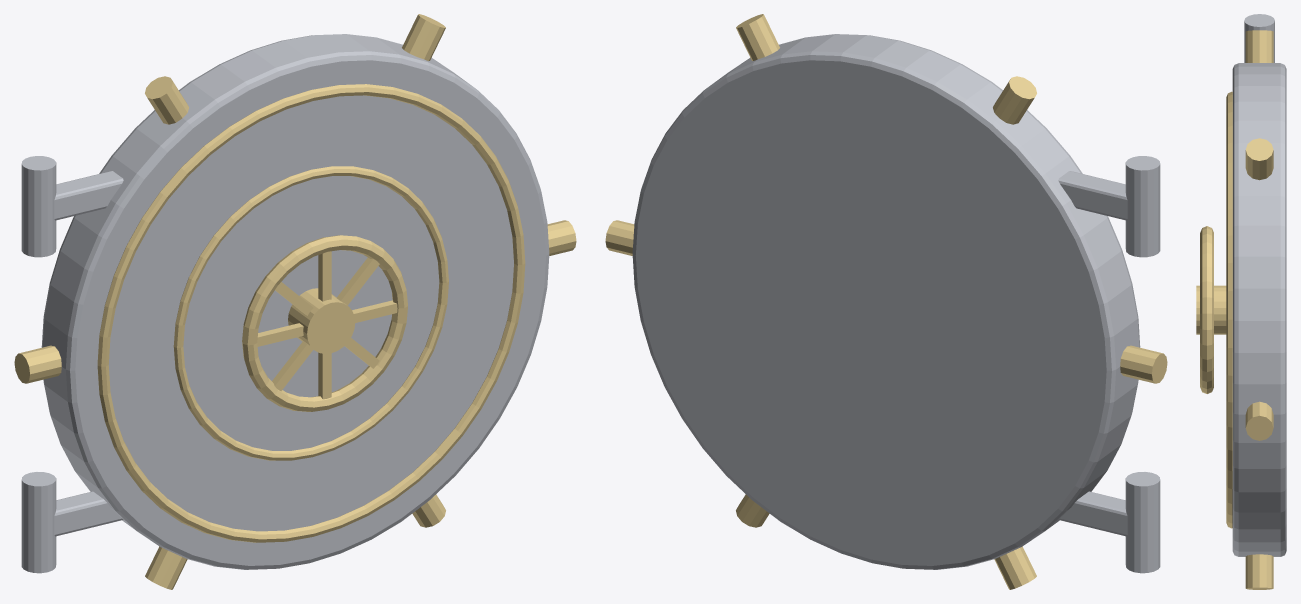
The model's file is prop_vault_door.glb.
3 views of the same model, side by side, from view 1: azimuth 30°, elevation 25°; view 2: azimuth 150°, elevation 25°; view 3: azimuth 270°, elevation 25° (orthographic). The views are drawn at different scales.
Parts seen in each view (by area): view 1: Door, Bolt3, Bolt2, Bolt1, Bolt4, Bolt0; view 2: Door, Bolt3, Bolt2, Bolt1, Bolt4, Bolt0; view 3: Door, Bolt1, Bolt5, Bolt0, Bolt2.
Boxes of the visible parts, <box> form: Door: <box>21,34,549,573</box>; Bolt3: <box>14,345,61,383</box>; Bolt2: <box>145,76,188,124</box>; Bolt1: <box>402,14,445,60</box>; Bolt4: <box>145,546,187,589</box>; Bolt0: <box>547,220,576,255</box>; Door: <box>632,34,1160,573</box>; Bolt3: <box>1120,345,1167,383</box>; Bolt2: <box>993,76,1036,124</box>; Bolt1: <box>736,14,779,60</box>; Bolt4: <box>994,546,1036,589</box>; Bolt0: <box>605,220,634,255</box>; Door: <box>1196,14,1286,556</box>; Bolt1: <box>1245,138,1273,180</box>; Bolt5: <box>1245,554,1273,589</box>; Bolt0: <box>1245,401,1273,440</box>; Bolt2: <box>1245,30,1273,62</box>.
Size of the model in its own units: 3.62 by 3.23 by 0.585.
